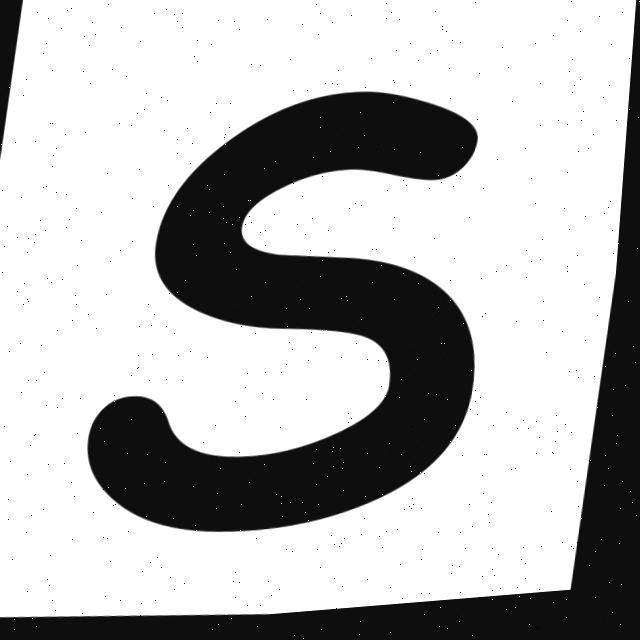S: (95, 98, 480, 535)
